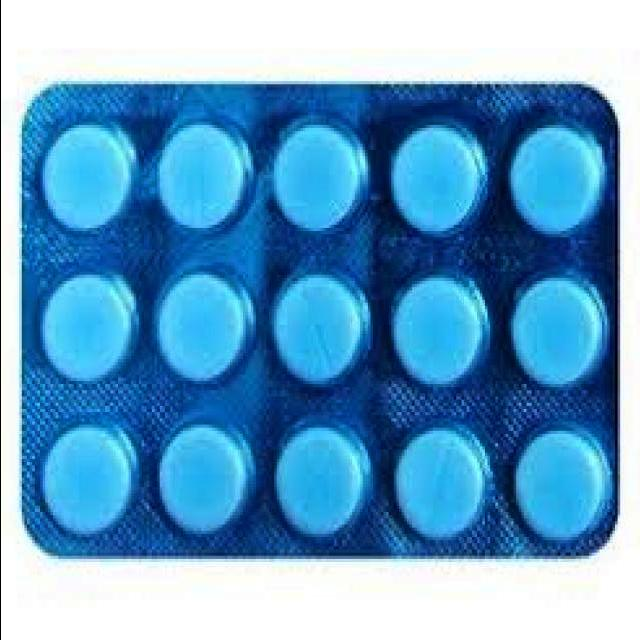authentic: (7, 52, 635, 591)
